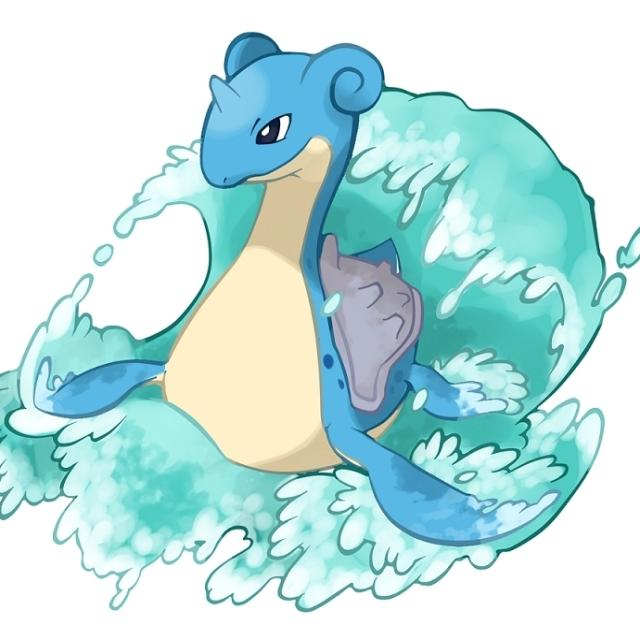Lapras: (158, 24, 519, 484)
